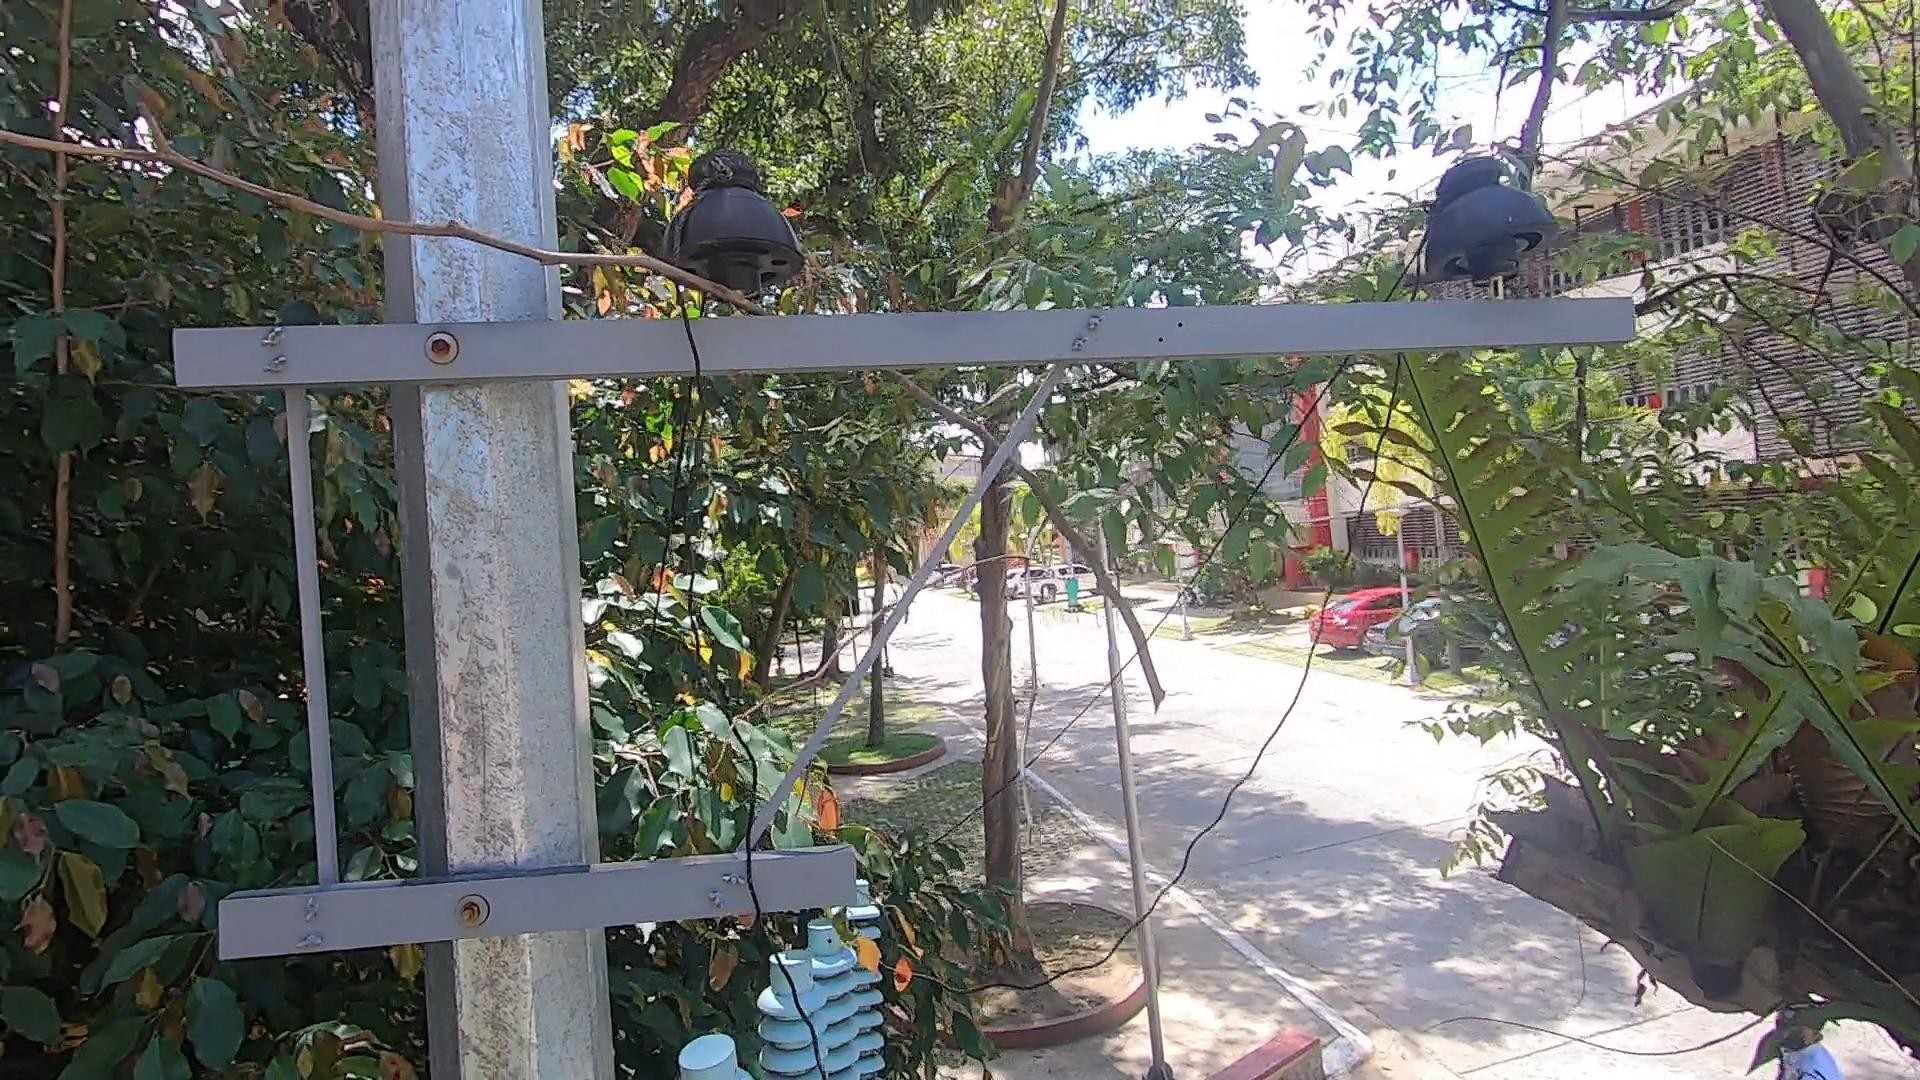leaf: (829, 911, 885, 975)
tree branch: (1, 96, 1201, 698)
